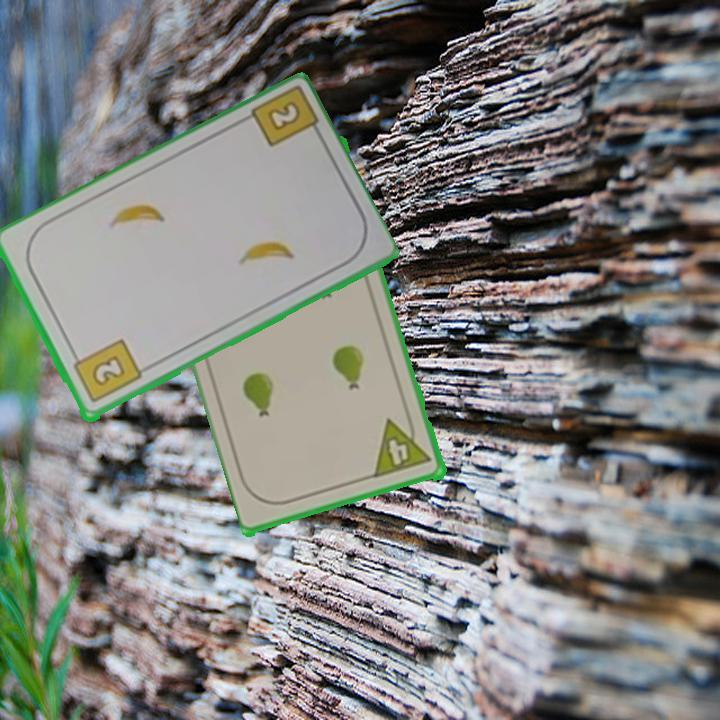2b: (69, 336, 144, 406), (263, 97, 304, 135)
4p: (371, 412, 435, 481)
